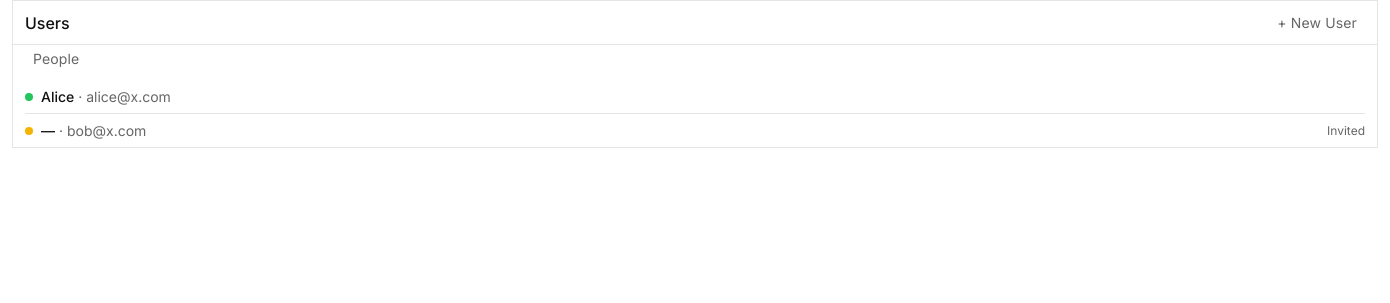
Scenario: UserManagementPanel › A5: "+ New User" keeps the create form in the panel body under its view title
Check: the text "Alice" is shown, box x1=41 y1=88 x2=74 y2=105
Click the button "+ New User" at (1317, 22), box x1=1269 y1=9 x2=1365 y2=36
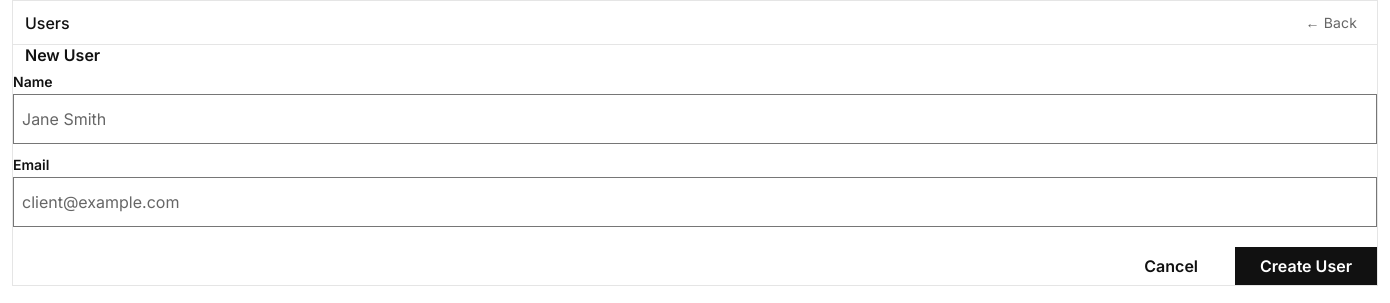
Check: the heading "New User" is shown, box x1=25 y1=45 x2=100 y2=65
Check: the button "Create User" is shown, box x1=1235 y1=247 x2=1377 y2=285
